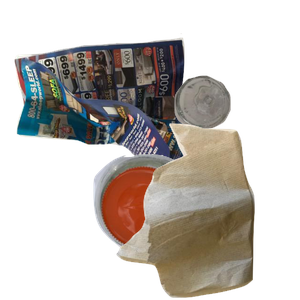glass: (172, 73, 300, 195)
paper: (12, 31, 196, 204)
plastic: (91, 152, 281, 300)
trash: (114, 121, 300, 300)
